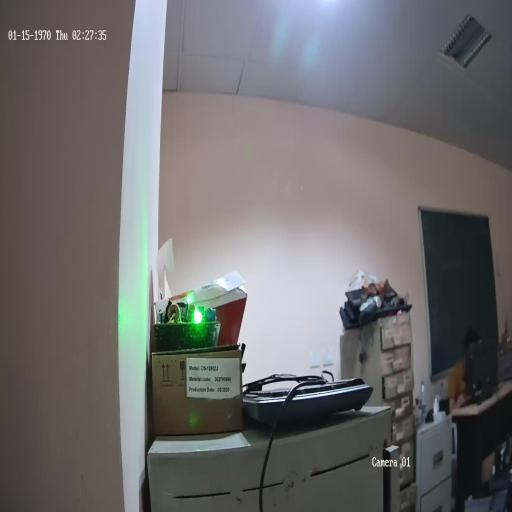laser: (192, 303, 204, 327)
